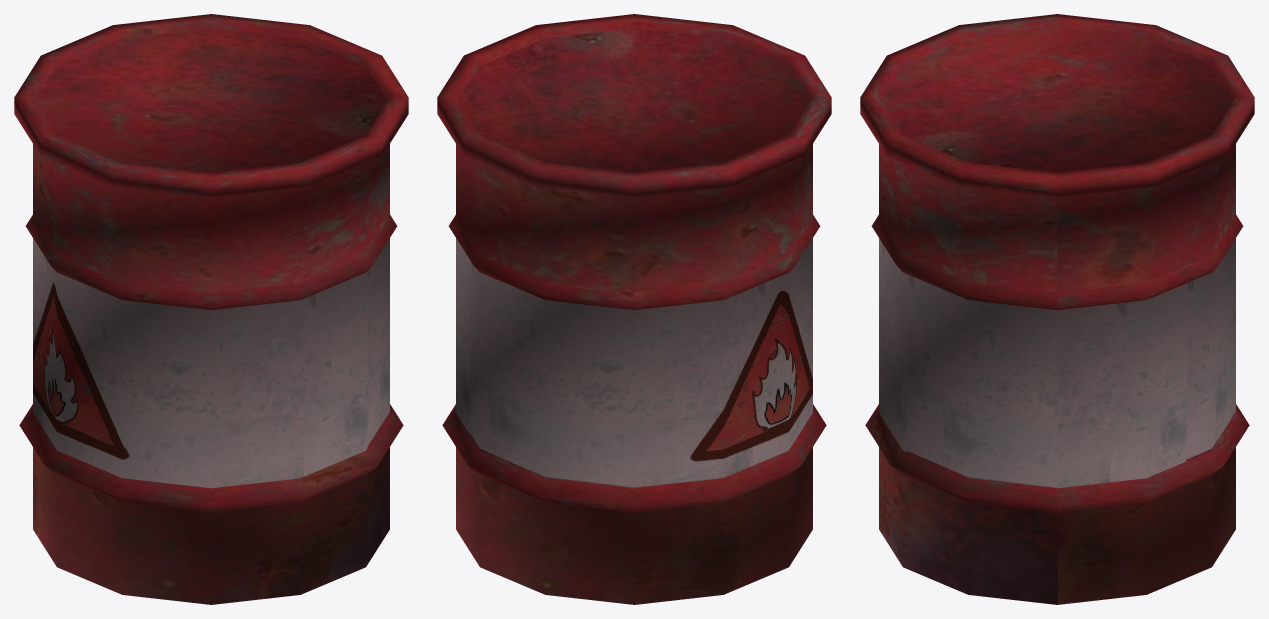
File: бочка.fbx
3 views of the same model, side by side, from view 1: azimuth 30°, elevation 25°; view 2: azimuth 150°, elevation 25°; view 3: azimuth 270°, elevation 25° (orthographic).
Visible parts, largest first — view 1: Cylinder; view 2: Cylinder; view 3: Cylinder.
Part boxes in pixels (left/top/right/bottom): Cylinder: left=14, top=14, right=408, bottom=604; Cylinder: left=437, top=14, right=831, bottom=604; Cylinder: left=860, top=14, right=1254, bottom=604.
Bounding box in the file's own units: 345 × 417 × 345.
